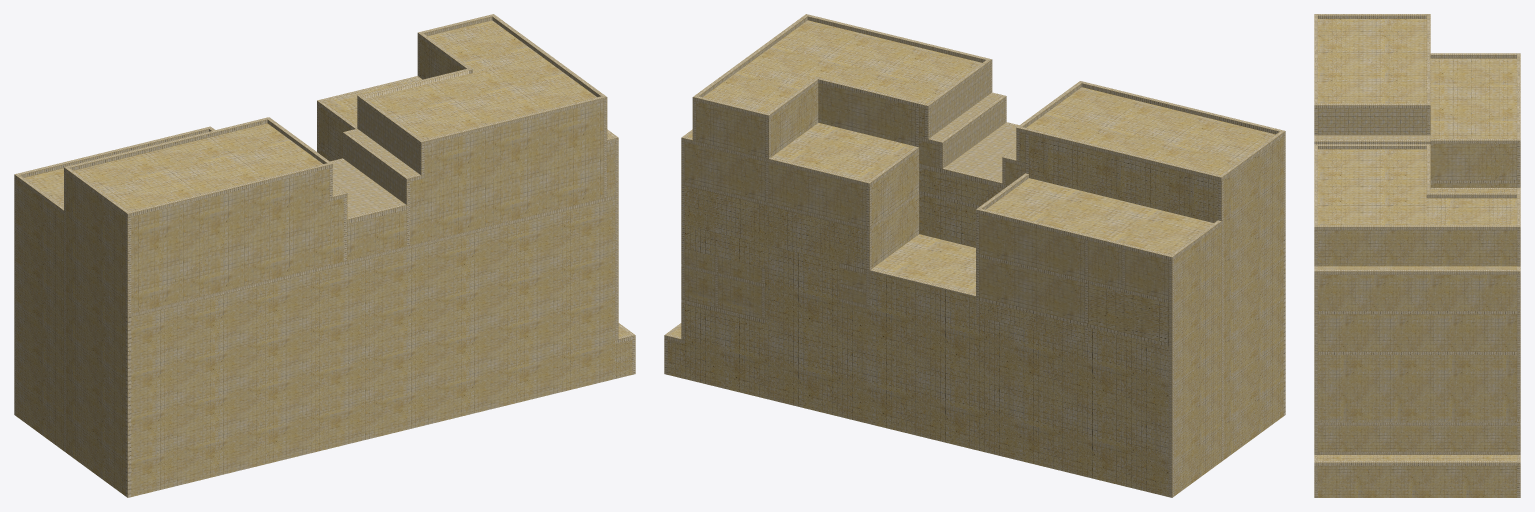
The model's file is tutorial_structure_base_pt06.dae.
The picture shows the model from 3 angles, left to right: view 1: azimuth 30°, elevation 25°; view 2: azimuth 150°, elevation 25°; view 3: azimuth 270°, elevation 25°; orthographic projection. The views are drawn at different scales.
Parts seen in each view (by area): view 1: tutorial_structure_base_pt06; view 2: tutorial_structure_base_pt06; view 3: tutorial_structure_base_pt06.
Part boxes in pixels (x1,y1,x2,y2): tutorial_structure_base_pt06: [14, 14, 635, 497]; tutorial_structure_base_pt06: [664, 14, 1285, 497]; tutorial_structure_base_pt06: [1314, 14, 1520, 497].
Bounding box in the file's own units: 103 × 39.7 × 54.86.
Materials: 3 (3 with a texture image).
